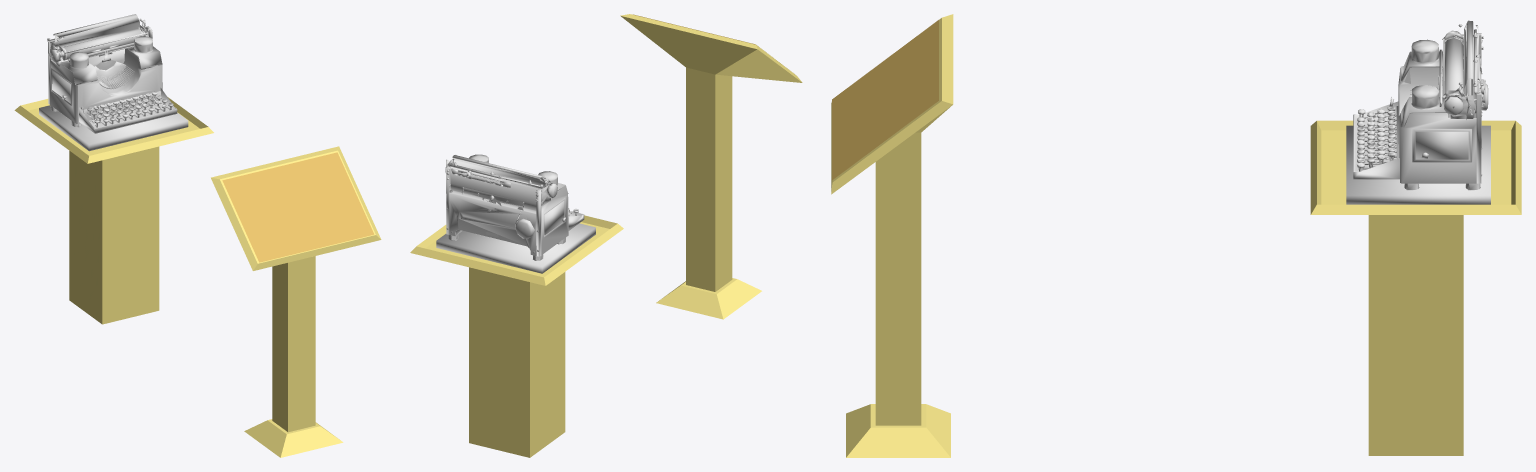
File: typewriter.fbx
3 renders of one model, left to right at view 1: azimuth 30°, elevation 25°; view 2: azimuth 150°, elevation 25°; view 3: azimuth 270°, elevation 25°, orthographic. The views are drawn at different scales.
Parts seen in each view (by area): view 1: writing, pedestal, typewriter; view 2: pedestal, writing, typewriter; view 3: pedestal, writing, typewriter.
Boxes of the visible parts, x1,y1,x2,y2 form: writing: (211, 146, 381, 457); pedestal: (14, 97, 213, 324); typewriter: (39, 14, 188, 151); pedestal: (410, 215, 623, 457); writing: (620, 14, 802, 319); typewriter: (436, 154, 595, 273); pedestal: (1310, 120, 1521, 455); writing: (831, 14, 953, 457); typewriter: (1346, 20, 1490, 204).
Size of the model in its own units: 225 by 447 by 726.
